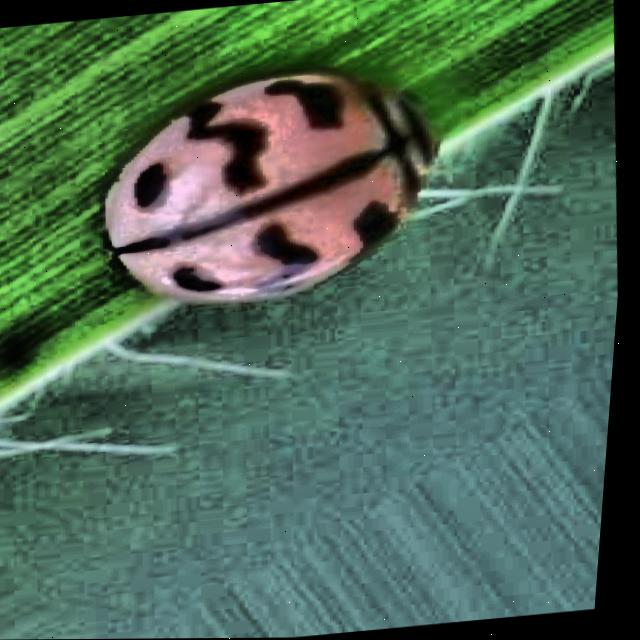Asian-Lady-beetle: (0, 13, 604, 363)
